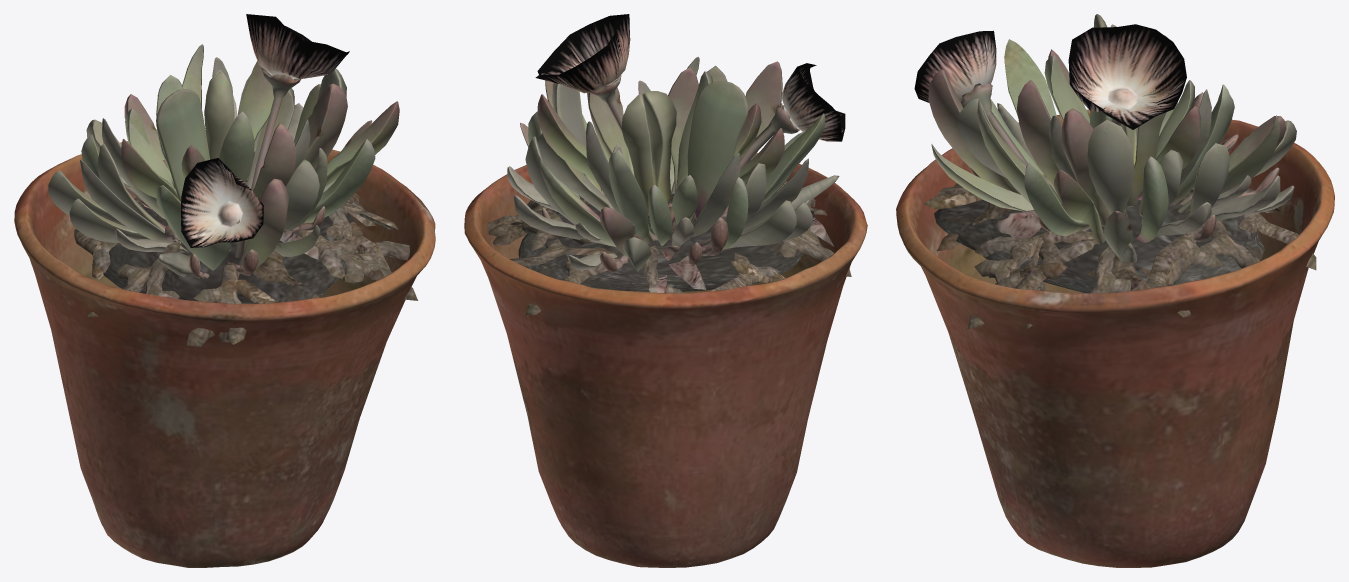
File: plant-flowering-succulent.glb
3 views of the same model, side by side, from view 1: azimuth 30°, elevation 25°; view 2: azimuth 150°, elevation 25°; view 3: azimuth 270°, elevation 25° (orthographic). The views are drawn at different scales.
Parts seen in each view (by area): view 1: planter_pot_clay, cheiridopsis_succulent_d_LOD0; view 2: planter_pot_clay, cheiridopsis_succulent_d_LOD0; view 3: planter_pot_clay, cheiridopsis_succulent_d_LOD0.
Part boxes in pixels (left/top/right/bottom): planter_pot_clay: left=14, top=141, right=435, bottom=567; cheiridopsis_succulent_d_LOD0: left=48, top=14, right=417, bottom=347; planter_pot_clay: left=464, top=153, right=867, bottom=567; cheiridopsis_succulent_d_LOD0: left=487, top=14, right=851, bottom=315; planter_pot_clay: left=896, top=109, right=1334, bottom=567; cheiridopsis_succulent_d_LOD0: left=914, top=14, right=1316, bottom=328.
Bounding box in the file's own units: 0.3059 × 0.402 × 0.303.
Materials: 3 (3 with a texture image).
